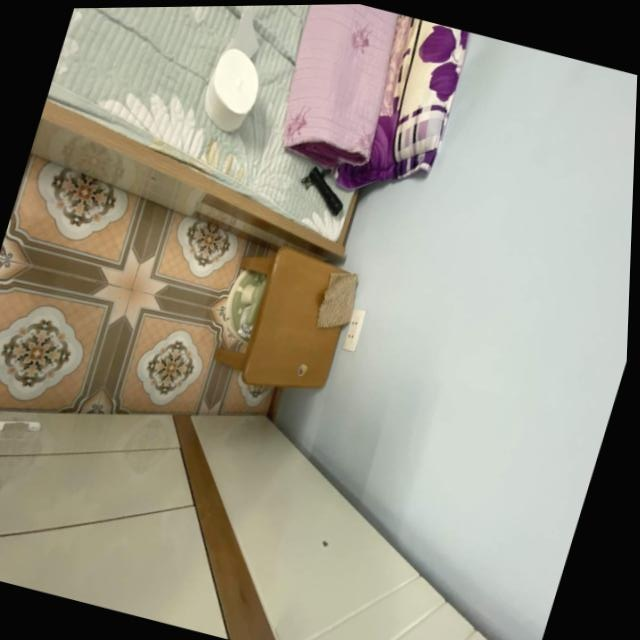outlet: (341, 307, 368, 352)
